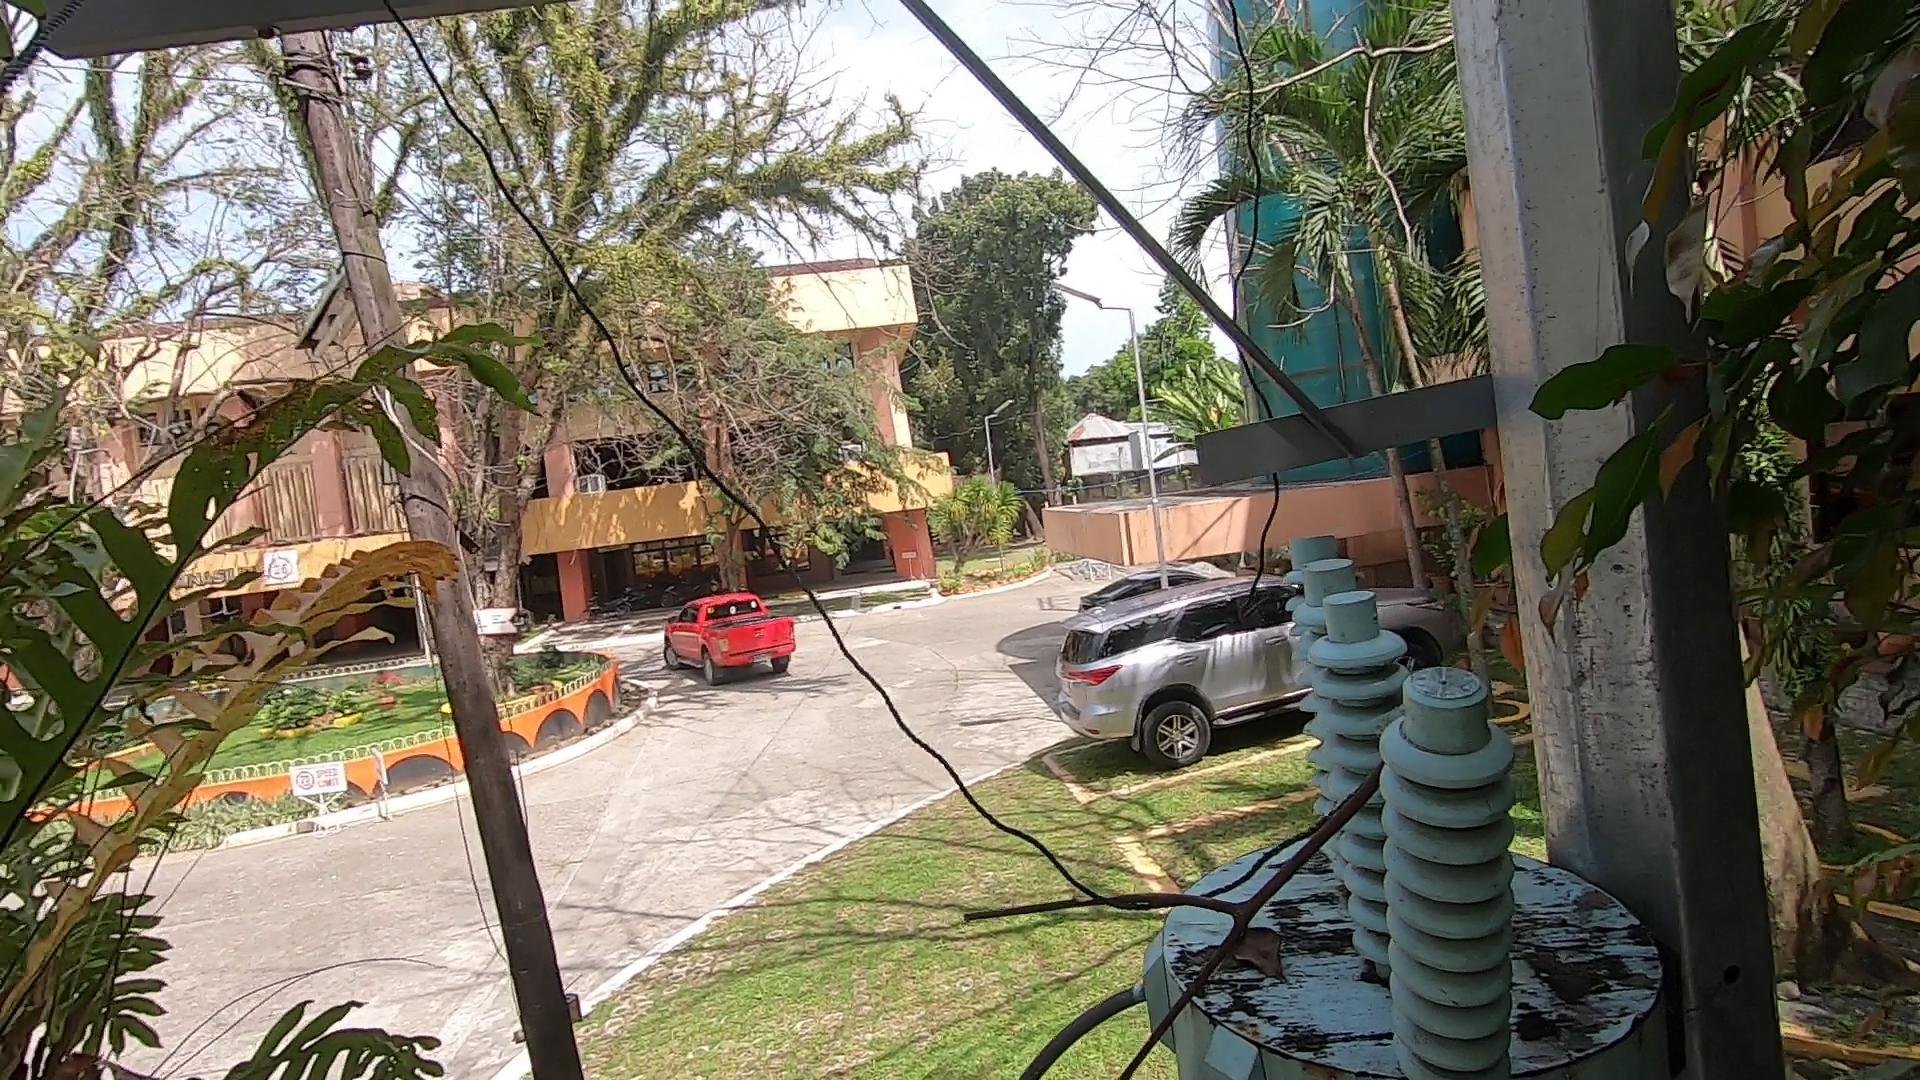leaf: (1215, 905, 1311, 993)
tree branch: (942, 750, 1418, 1080)
